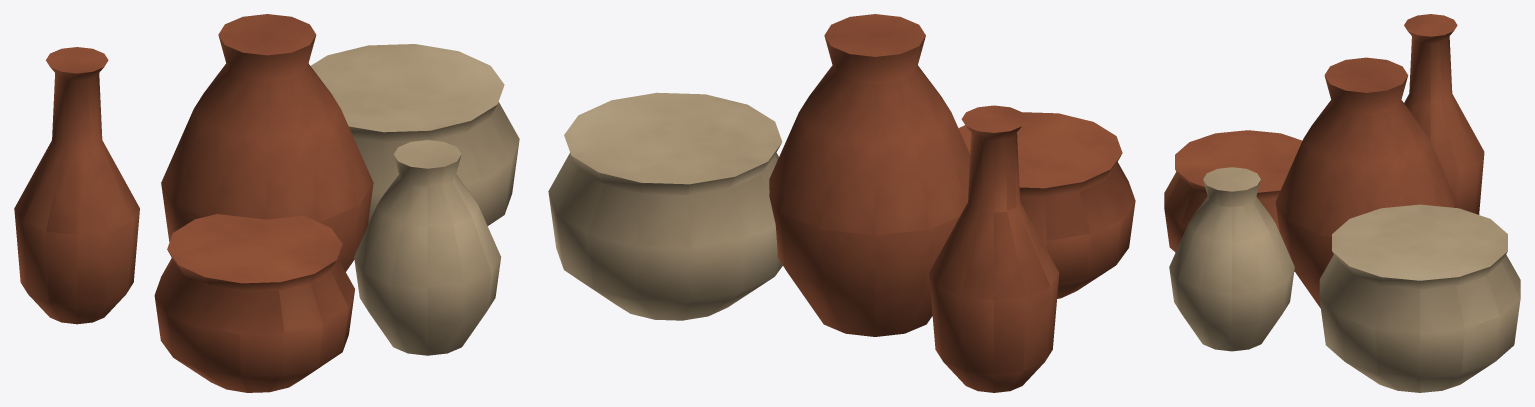
Rendered from pottery.gltf.
3 views of the same model, side by side, from view 1: azimuth 30°, elevation 25°; view 2: azimuth 150°, elevation 25°; view 3: azimuth 270°, elevation 25° (orthographic). The views are drawn at different scales.
Parts seen in each view (by area): view 1: pottery_mesh; view 2: pottery_mesh; view 3: pottery_mesh.
Boxes of the visible parts, bbox=[...] form: pottery_mesh: bbox=[14, 14, 519, 392]; pottery_mesh: bbox=[548, 14, 1135, 392]; pottery_mesh: bbox=[1164, 14, 1520, 392].
Size of what is drawn, in the model's own units: 0.872 by 0.468 by 0.6632.
Materials: 2 (2 with a texture image).
